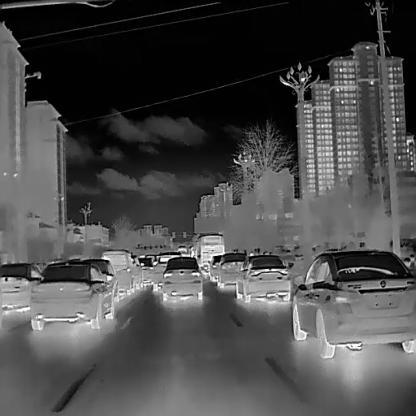car: (290, 246, 415, 359), (28, 257, 116, 330), (234, 253, 291, 304), (0, 261, 42, 312), (160, 253, 203, 300), (99, 249, 142, 295), (81, 256, 120, 302), (193, 232, 225, 274), (213, 251, 247, 289), (151, 249, 180, 291), (135, 255, 154, 282), (206, 254, 222, 281)
